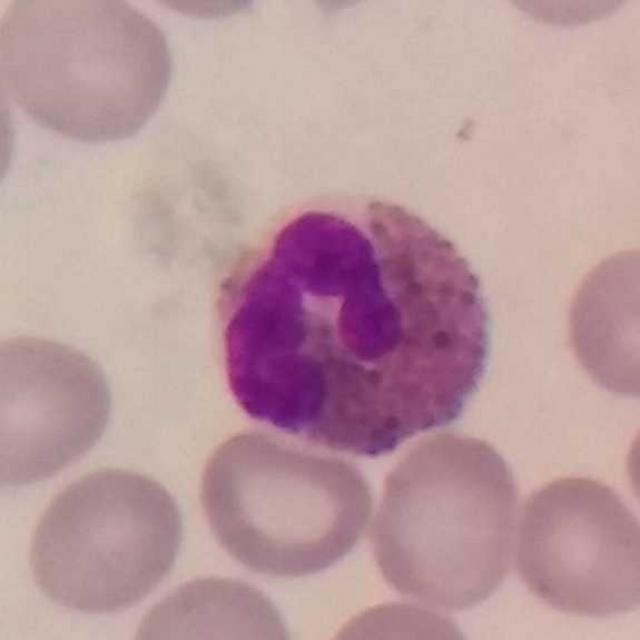Eosinophil: (200, 188, 497, 465)
RBC: (189, 419, 382, 583), (362, 426, 528, 614), (18, 460, 191, 621), (0, 0, 182, 152), (506, 468, 640, 626), (0, 323, 124, 492), (555, 238, 640, 406), (119, 569, 303, 640), (307, 595, 485, 640), (488, 0, 640, 34), (97, 0, 290, 26), (0, 39, 23, 228), (617, 391, 640, 555), (274, 0, 413, 20)
